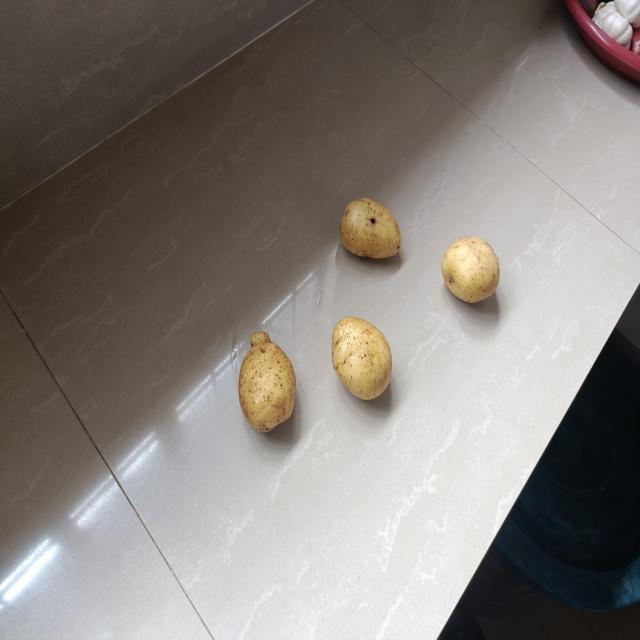potato: (235, 329, 297, 438), (329, 312, 397, 410), (440, 233, 502, 310), (337, 195, 406, 261)
